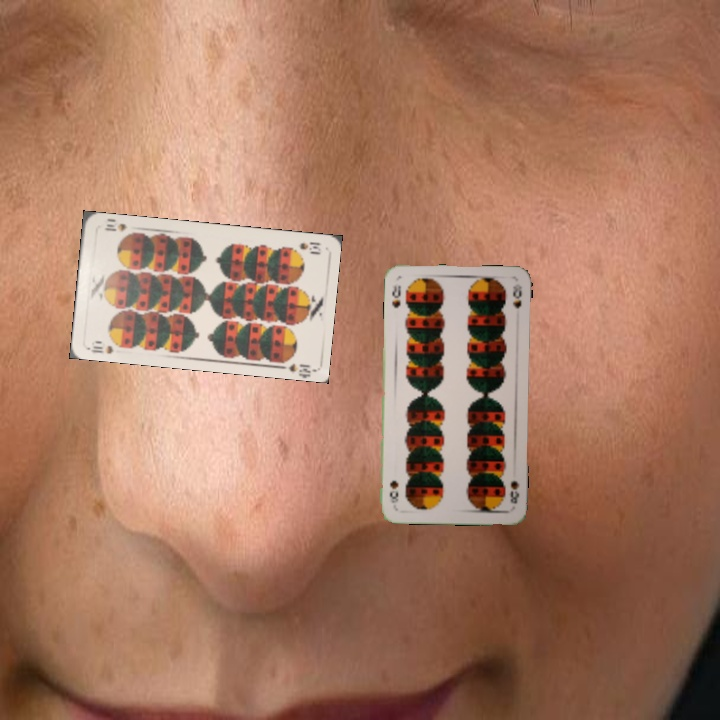S10: (85, 336, 126, 356), (295, 238, 323, 256)
S8: (506, 477, 521, 506), (388, 281, 403, 310)
